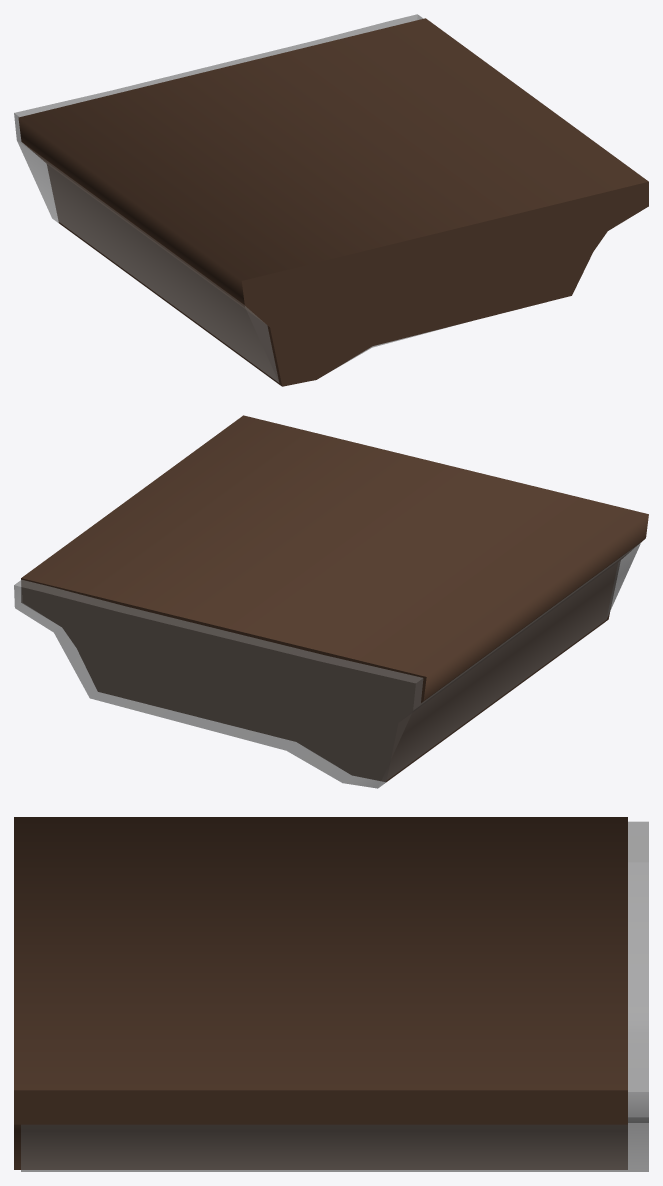
The model's file is intro_prop(ceiling_mountain)_01.FBX.
The picture shows the model from 3 angles, top to bottom: view 1: azimuth 30°, elevation 25°; view 2: azimuth 150°, elevation 25°; view 3: azimuth 270°, elevation 25°; orthographic projection. The views are drawn at different scales.
Visible parts, largest first — view 1: ceiling_mountain001, ceiling_mountain_colider001; view 2: ceiling_mountain001, ceiling_mountain_colider001; view 3: ceiling_mountain001, ceiling_mountain_colider001.
Part boxes in pixels (x1,y1,x2,y2): ceiling_mountain001: (18,18,648,386); ceiling_mountain_colider001: (14,14,460,382); ceiling_mountain001: (21,415,648,782); ceiling_mountain_colider001: (14,543,640,788); ceiling_mountain001: (14,817,627,1169); ceiling_mountain_colider001: (21,821,648,1171).
Bounding box in the file's own units: 183 × 51.51 × 180.
